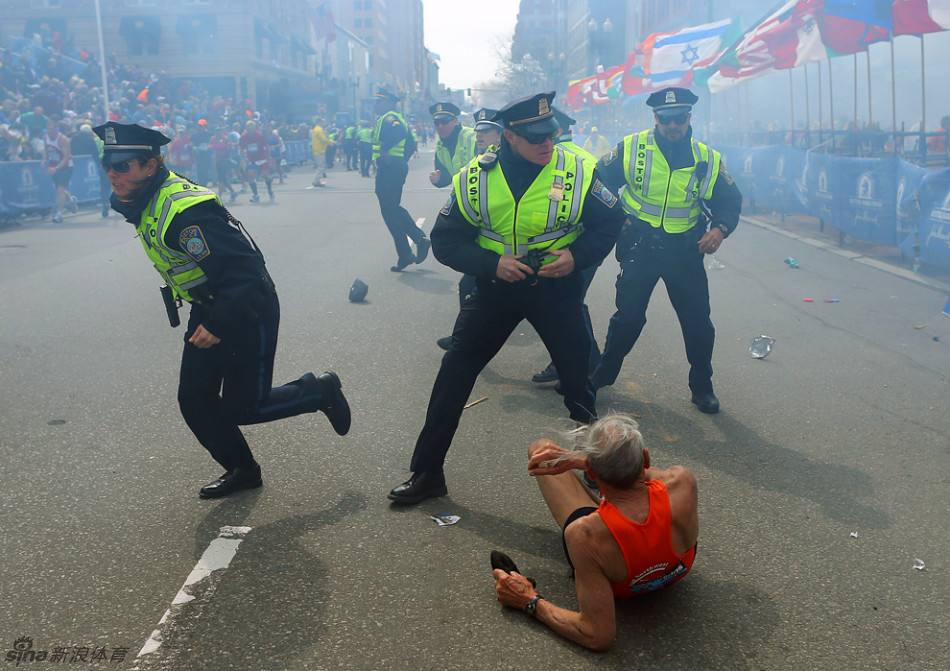10+: (1, 28, 950, 512)
down: (489, 412, 702, 650)
